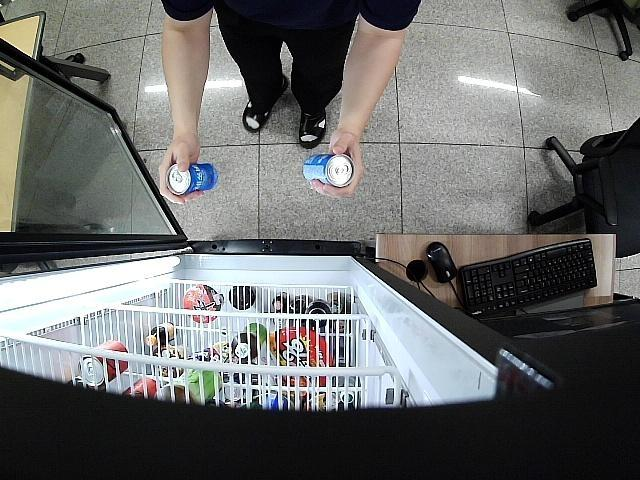15_letsbe: (302, 153, 354, 188), (166, 164, 218, 196)
